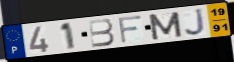1: (60, 21, 77, 51)
4: (28, 25, 51, 54)
B: (88, 18, 117, 48)
F: (117, 14, 144, 45)
J: (184, 7, 208, 37)
M: (147, 10, 184, 41)
